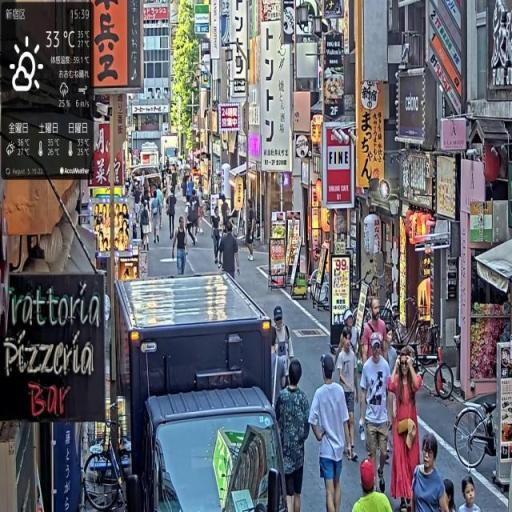person: (307, 350, 353, 512), (387, 342, 424, 512), (360, 335, 396, 499), (274, 357, 312, 511), (411, 430, 448, 512), (337, 333, 359, 464), (353, 454, 395, 512), (173, 217, 189, 278), (460, 476, 484, 512), (152, 187, 165, 245), (212, 205, 224, 265)
